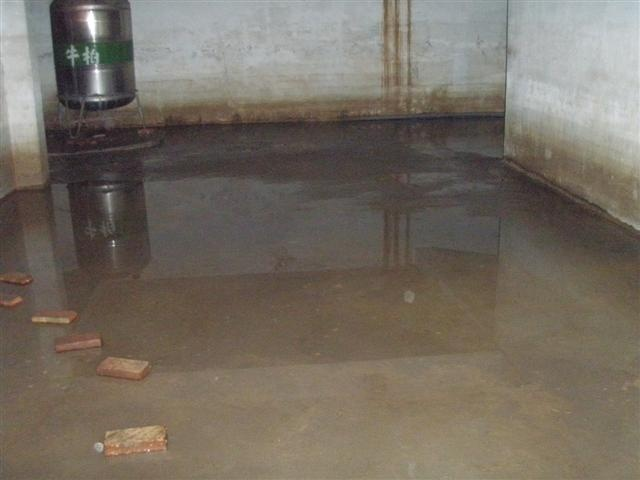water_tower: (49, 1, 147, 141)
